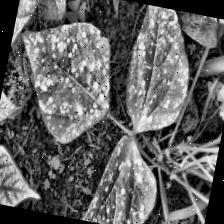Bean Rust: (7, 14, 124, 146), (119, 4, 204, 132), (69, 130, 166, 224)
